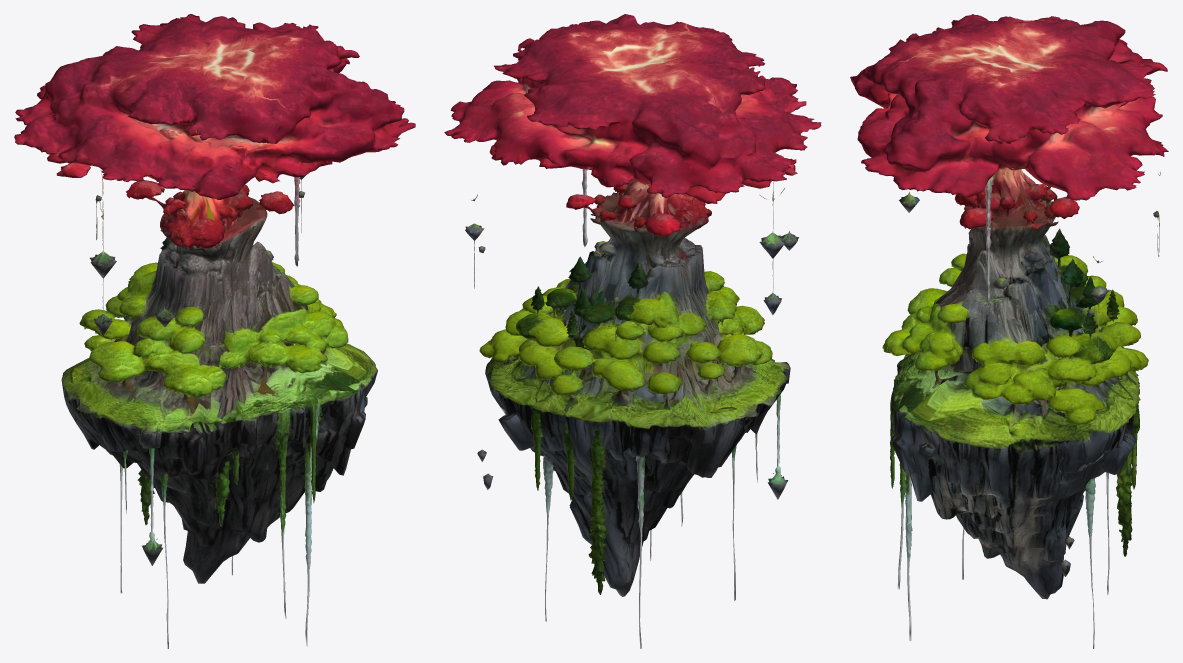
File: Embercrest_Island.glb
3 views of the same model, side by side, from view 1: azimuth 30°, elevation 25°; view 2: azimuth 150°, elevation 25°; view 3: azimuth 270°, elevation 25° (orthographic). The views are drawn at different scales.
Visible parts, largest first — view 1: Embercrest_Island; view 2: Embercrest_Island; view 3: Embercrest_Island.
Part boxes in pixels (x1,y1,x2,y2): Embercrest_Island: (14,14,415,648); Embercrest_Island: (444,14,821,648); Embercrest_Island: (850,14,1168,648).
Size of the model in its own units: 1.19 by 1.9 by 0.9564.
Materials: 1 (1 with a texture image).
